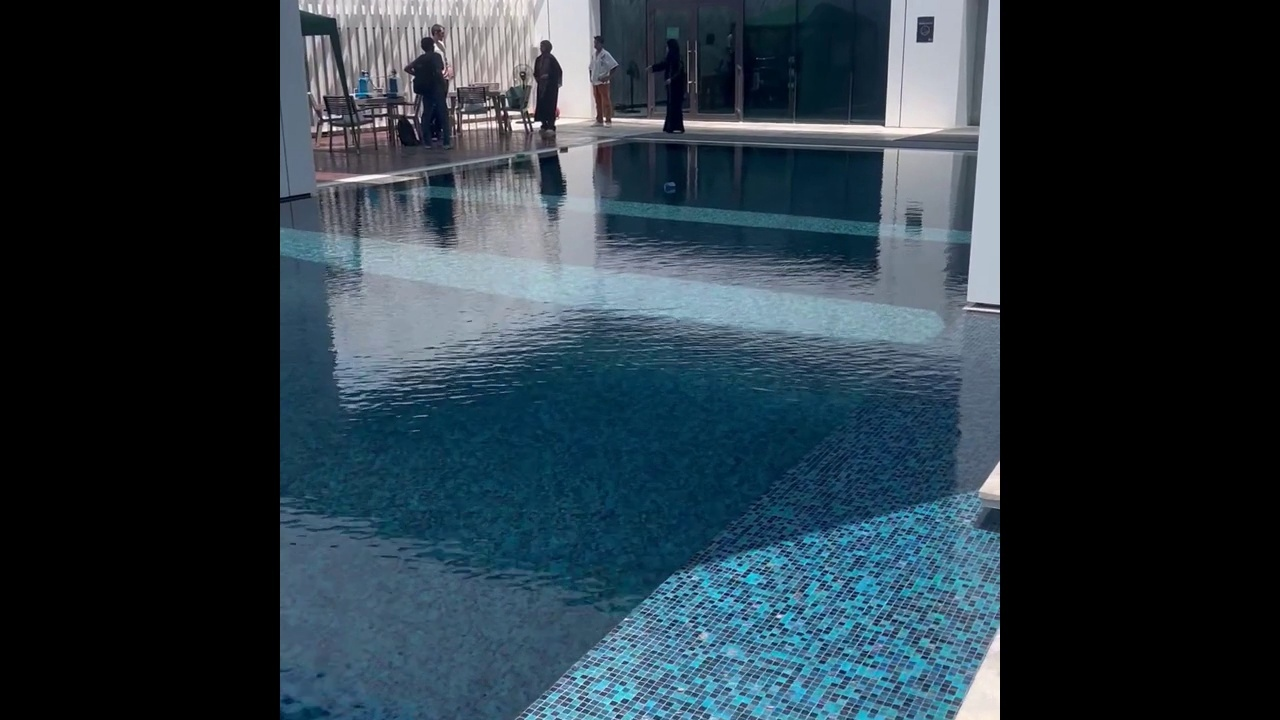debris: (658, 180, 677, 195), (509, 148, 528, 163), (555, 141, 573, 156)
